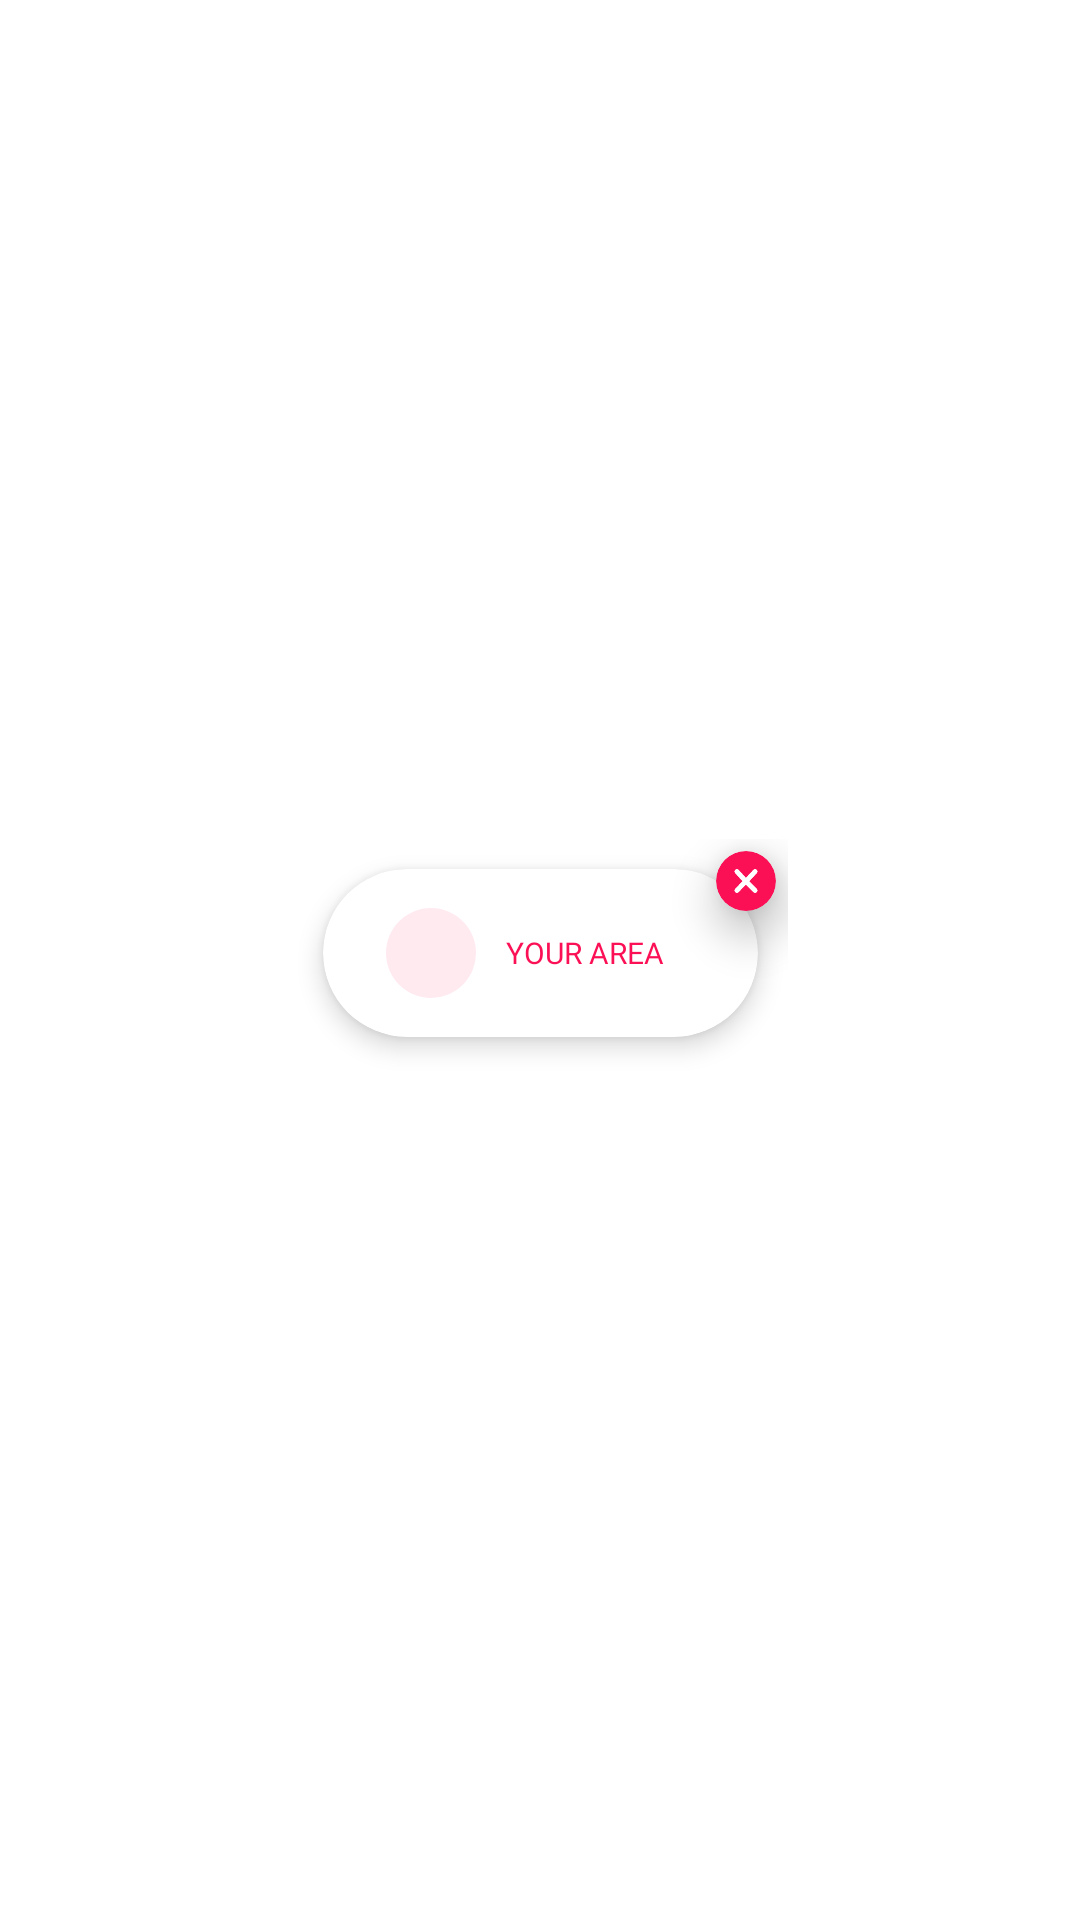

Icon click points for this 1080px×1920px phone screenshot, format (x,y):
misc cancel: (746,881)
